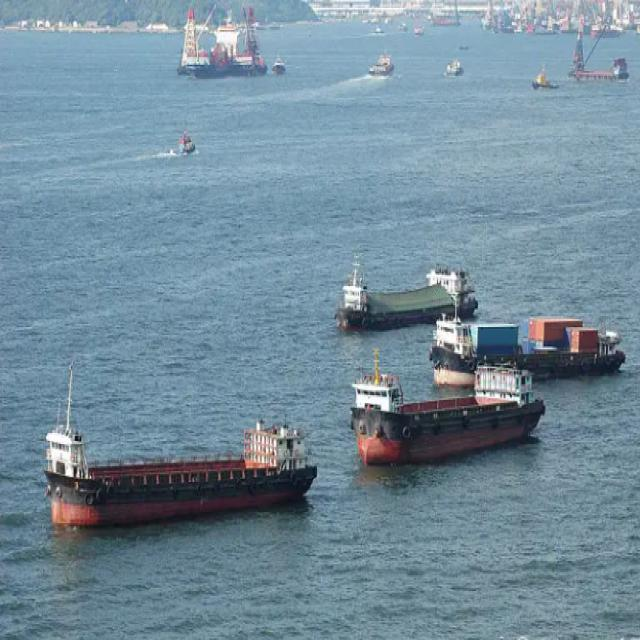cargoship: (43, 367, 322, 534), (352, 354, 546, 470), (436, 297, 632, 383), (338, 227, 478, 337), (180, 4, 268, 82), (368, 48, 397, 81), (181, 124, 198, 171)
